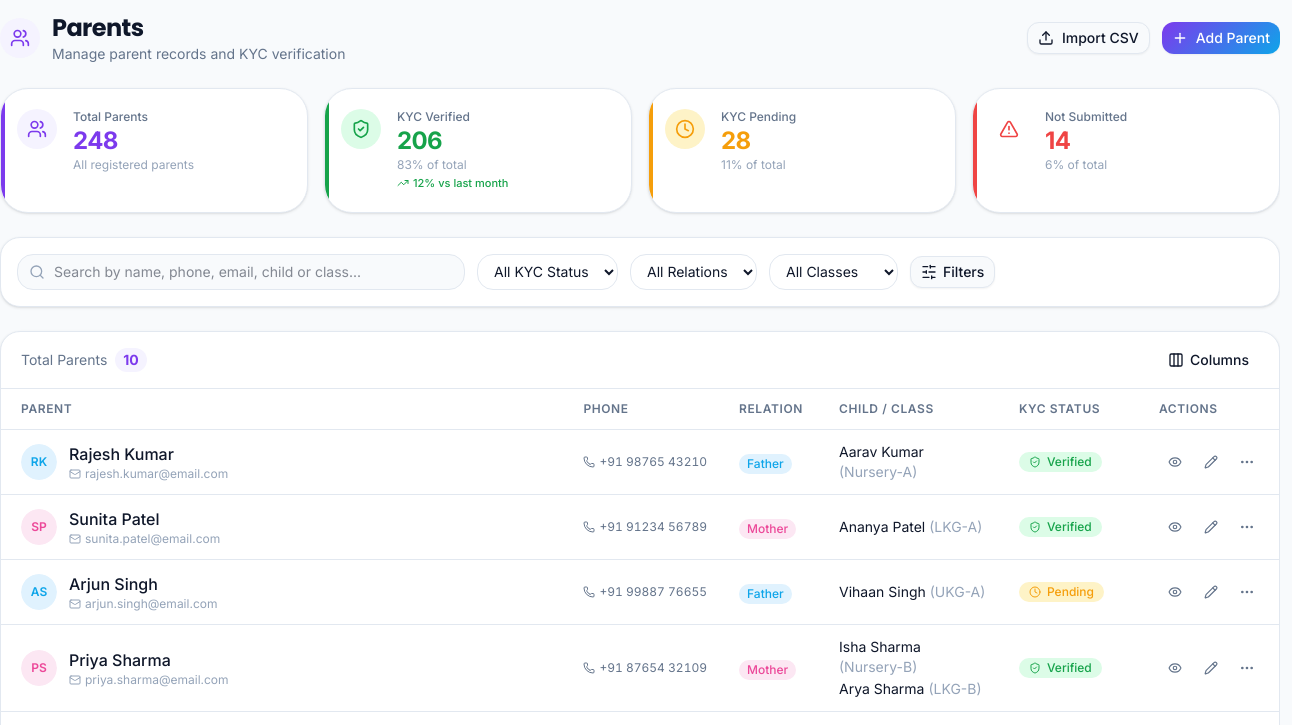
Test case: ParentsListPage › Filter Bar › shows Clear button when search is active
Type "Rajesh" into the field with placeholder "Search by name, phone, email, child or class..." at (241, 272), box x1=17 y1=254 x2=465 y2=290
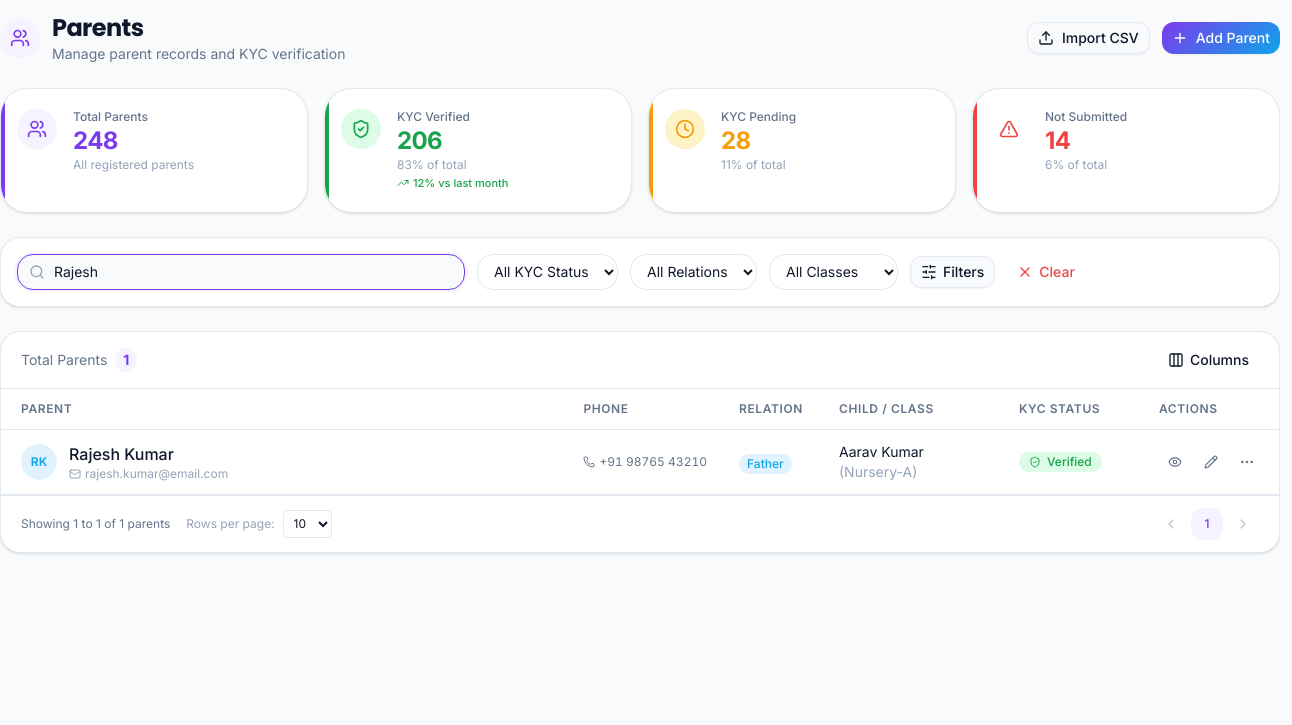
expect the button "Clear" is shown: met, box x1=1007 y1=256 x2=1085 y2=288
